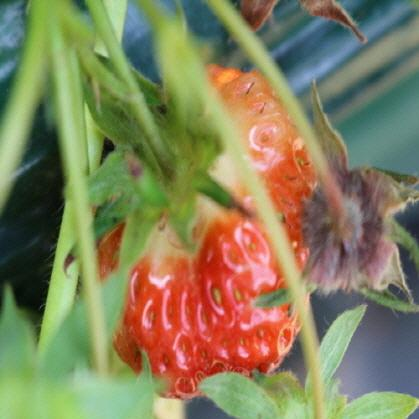Gray Mold: (299, 79, 418, 303)
